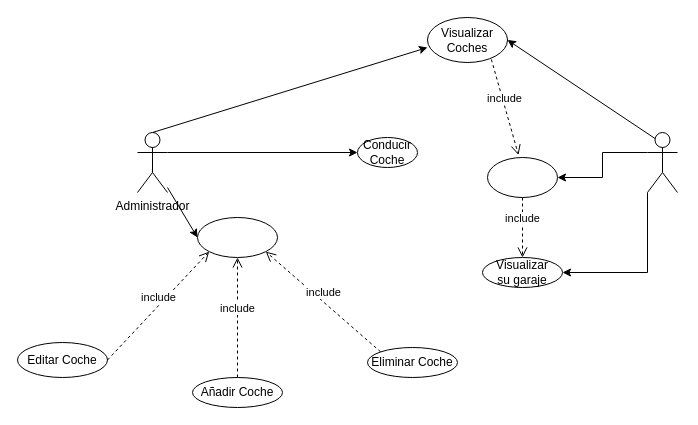
Some shapes in this 698 by 425 pixel diagram are drawn without their labels. Each missing label, with the centre of its shape:
"Cliente" goes at (x=662, y=162).
"Comprar coche" goes at (x=522, y=177).
"Gestión BD" goes at (x=237, y=237).
